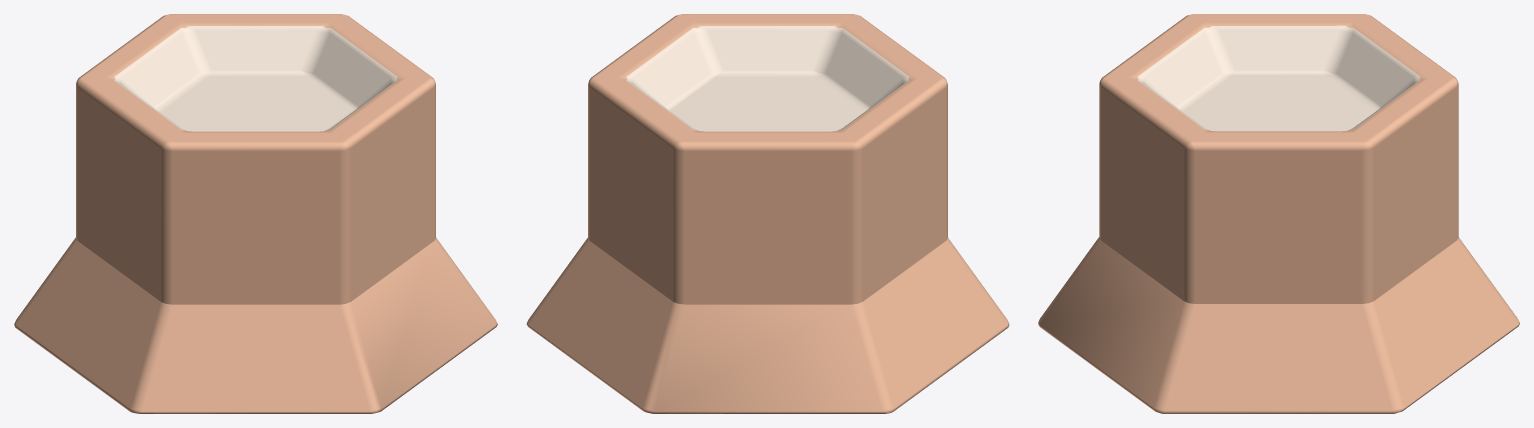
The model's file is stump_round.glb.
3 views of the same model, side by side, from view 1: azimuth 30°, elevation 25°; view 2: azimuth 150°, elevation 25°; view 3: azimuth 270°, elevation 25° (orthographic).
Visible parts, largest first — view 1: stump_round; view 2: stump_round; view 3: stump_round.
Boxes of the visible parts, bbox=[...] form: stump_round: bbox=[14, 14, 497, 413]; stump_round: bbox=[526, 14, 1009, 413]; stump_round: bbox=[1038, 14, 1519, 413].
Bounding box in the file's own units: 0.3182 × 0.2065 × 0.3634.
